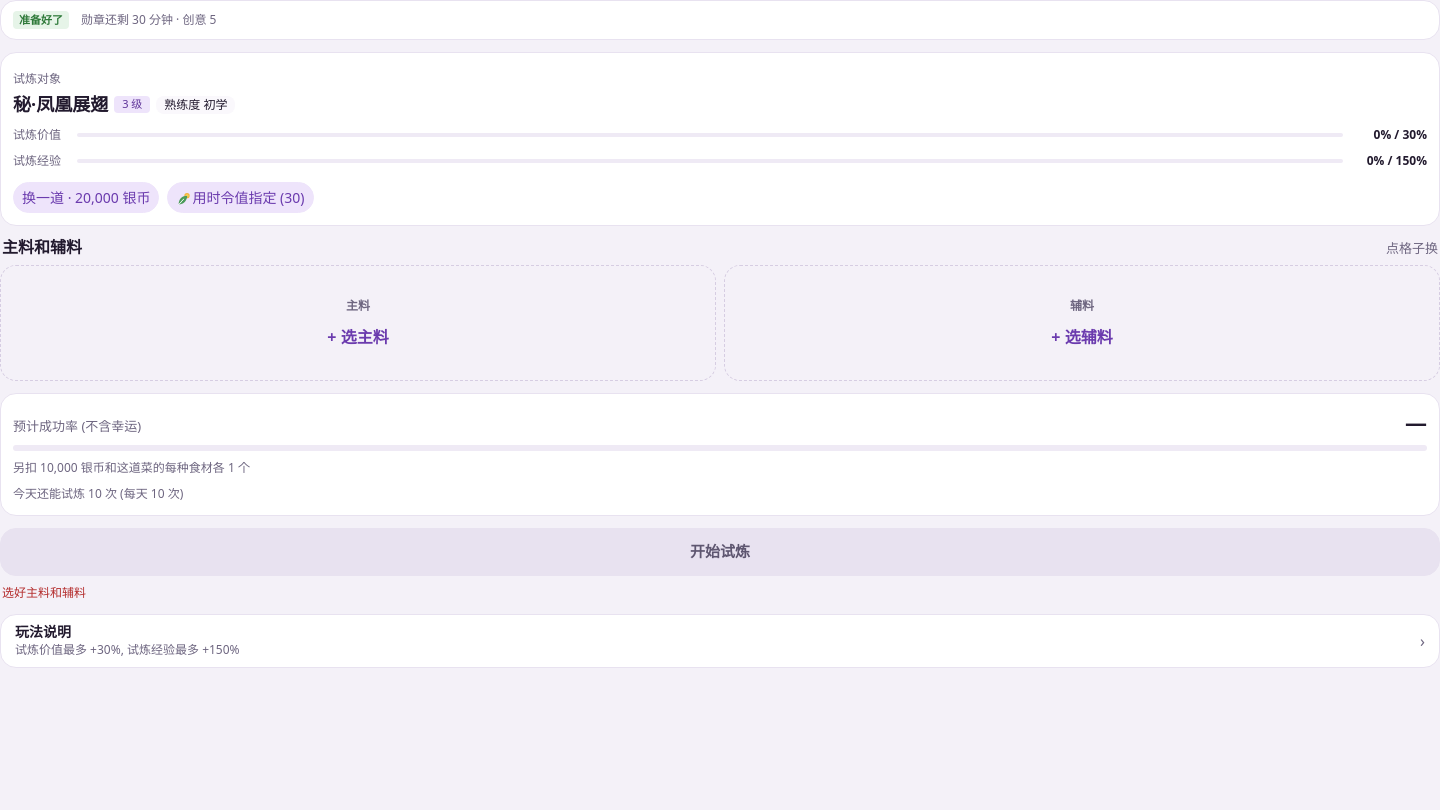
Test: TrialPanel › 准备好后选主辅食材开始试炼，显示预计成功率和结果
Expected: the element with test id "trial-ready" shows "勋章还剩 30 分钟 · 创意 5", [81,11,216,28]
Expected: the element with test id "trial-target" shows "秘·凤凰展翅", [13,92,108,116]
Click the button with test id "trial-slot-main" at {"x": 358, "y": 322}, box [0,264,716,380]
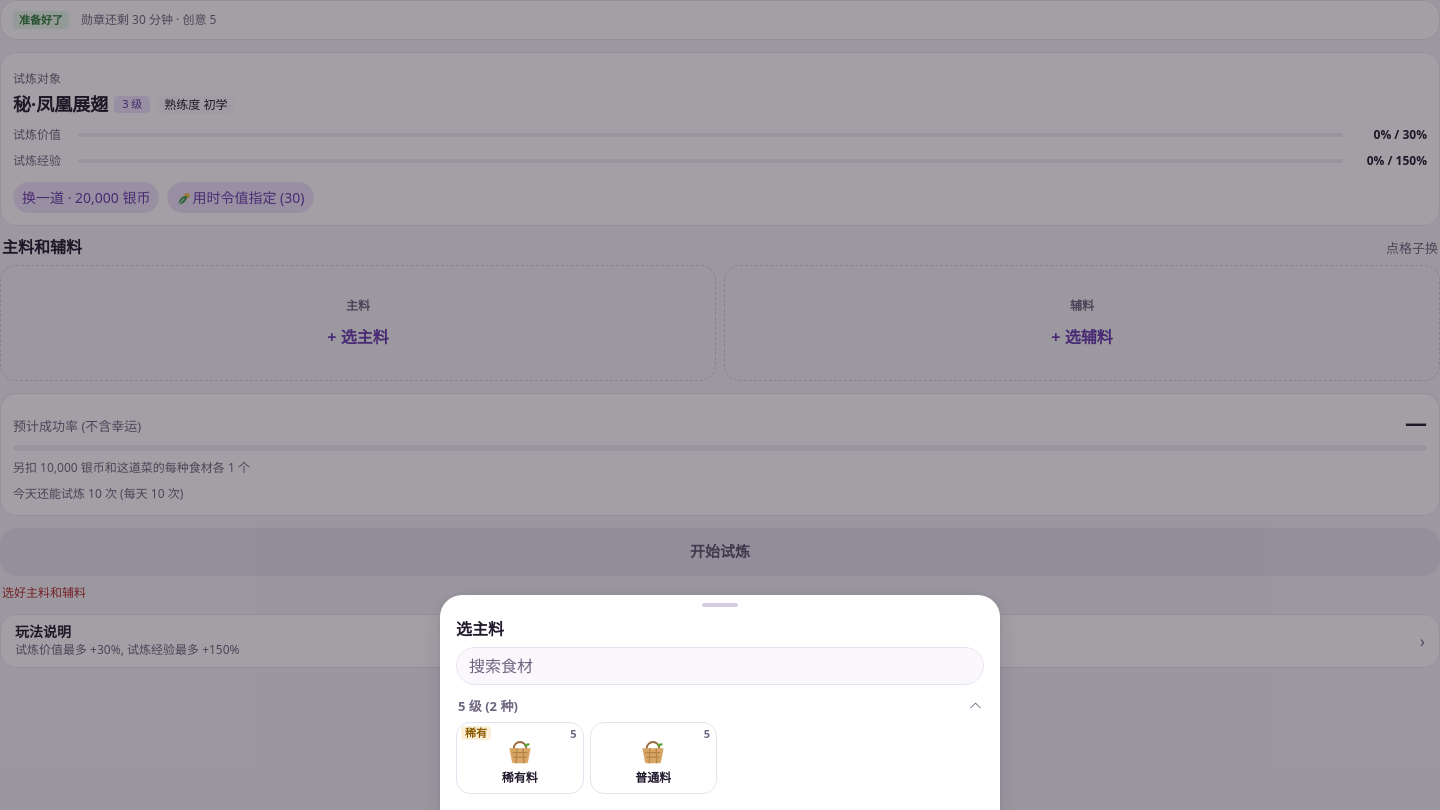
Expected: the text with class "dt-sheet-title" reads "选主料", [456,618,504,640]
Click the button with test id "trial-food-150" at {"x": 520, "y": 758}, box [456,722,584,794]
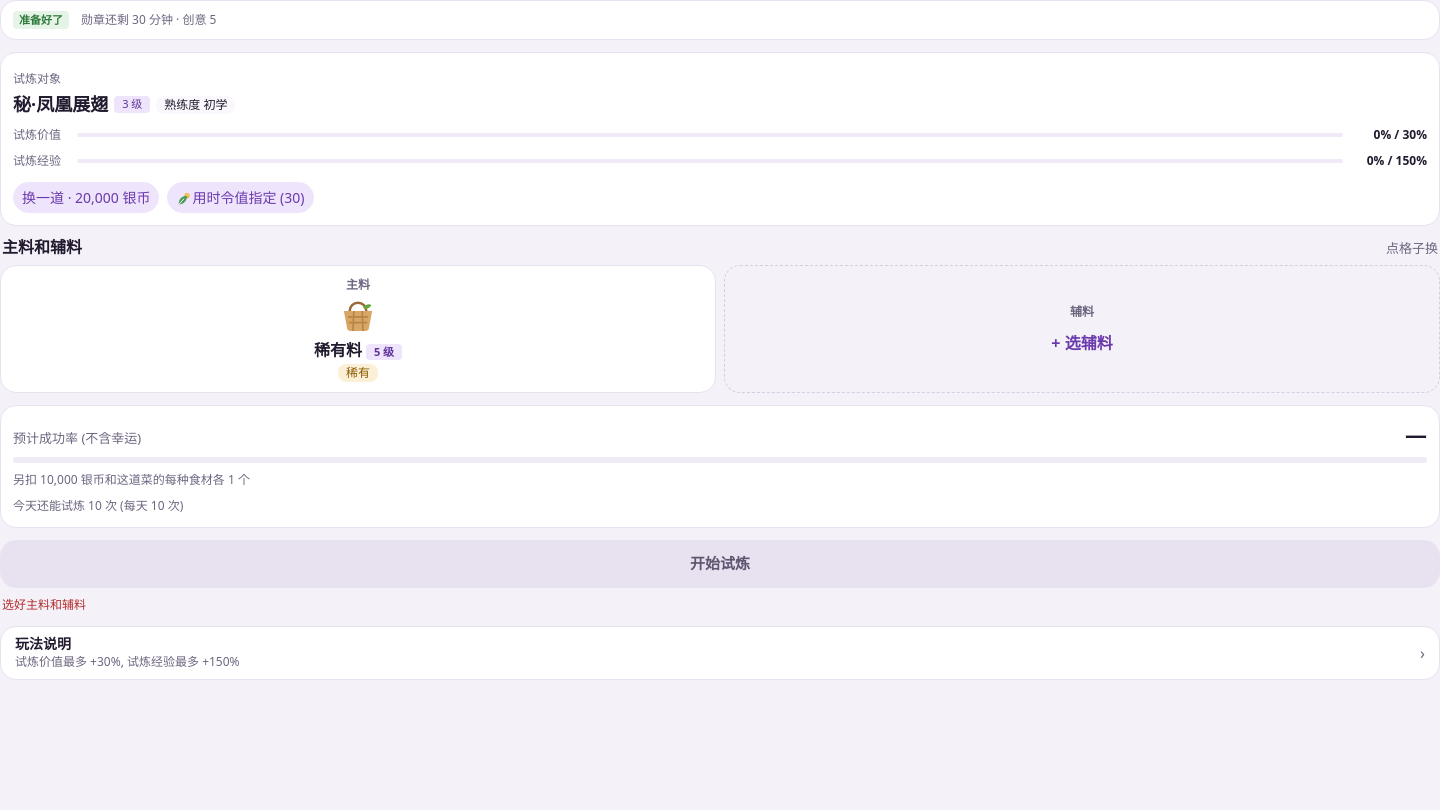
Expected: the button with test id "trial-slot-main" shows "稀有料", [0,264,716,392]
Click the button with test id "trial-slot-sub" at {"x": 1082, "y": 328}, box [724,264,1439,392]
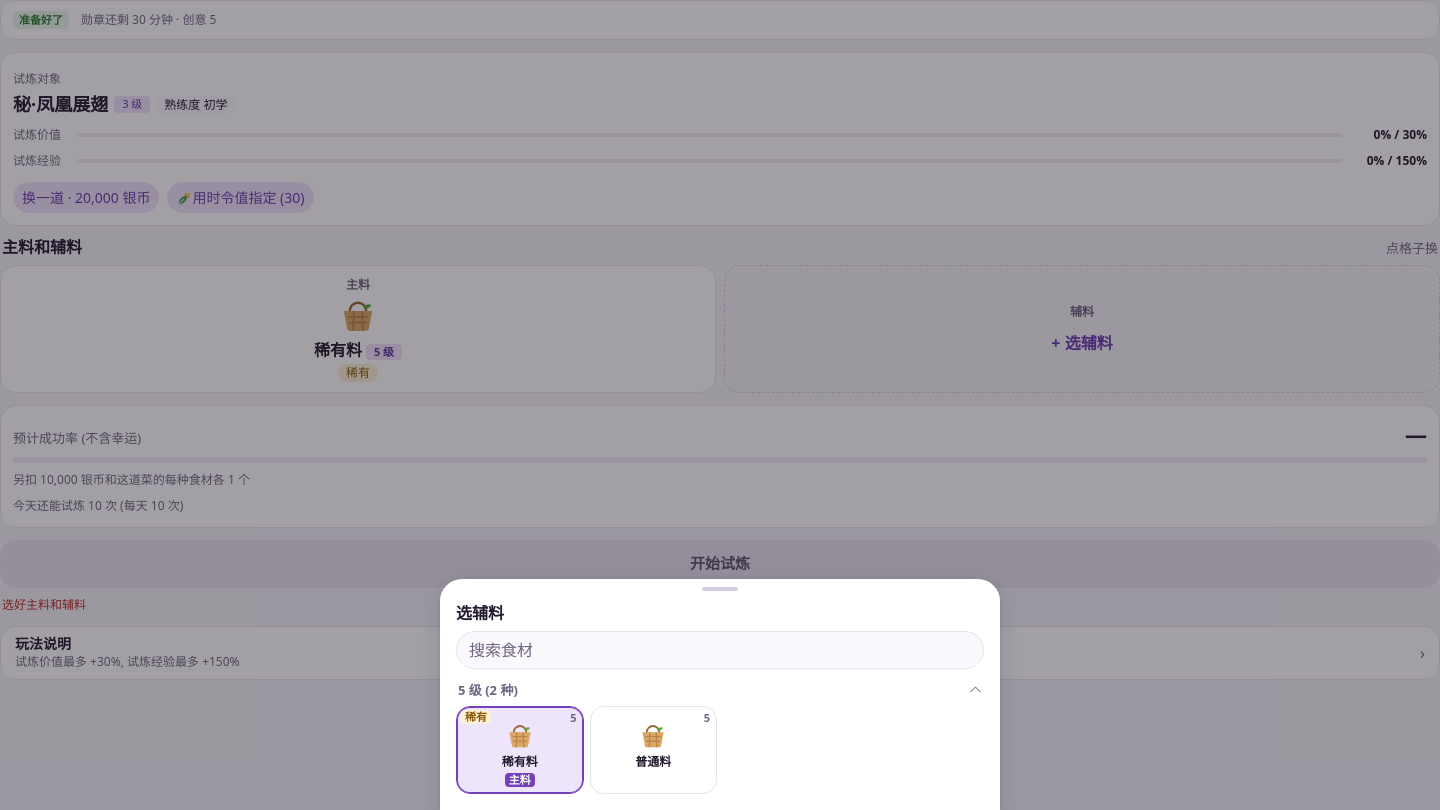
Expected: the text with class "dt-sheet-title" reads "选辅料", [456,602,504,624]
Click the button with test id "trial-food-423" at {"x": 653, "y": 750}, box [590,706,717,794]
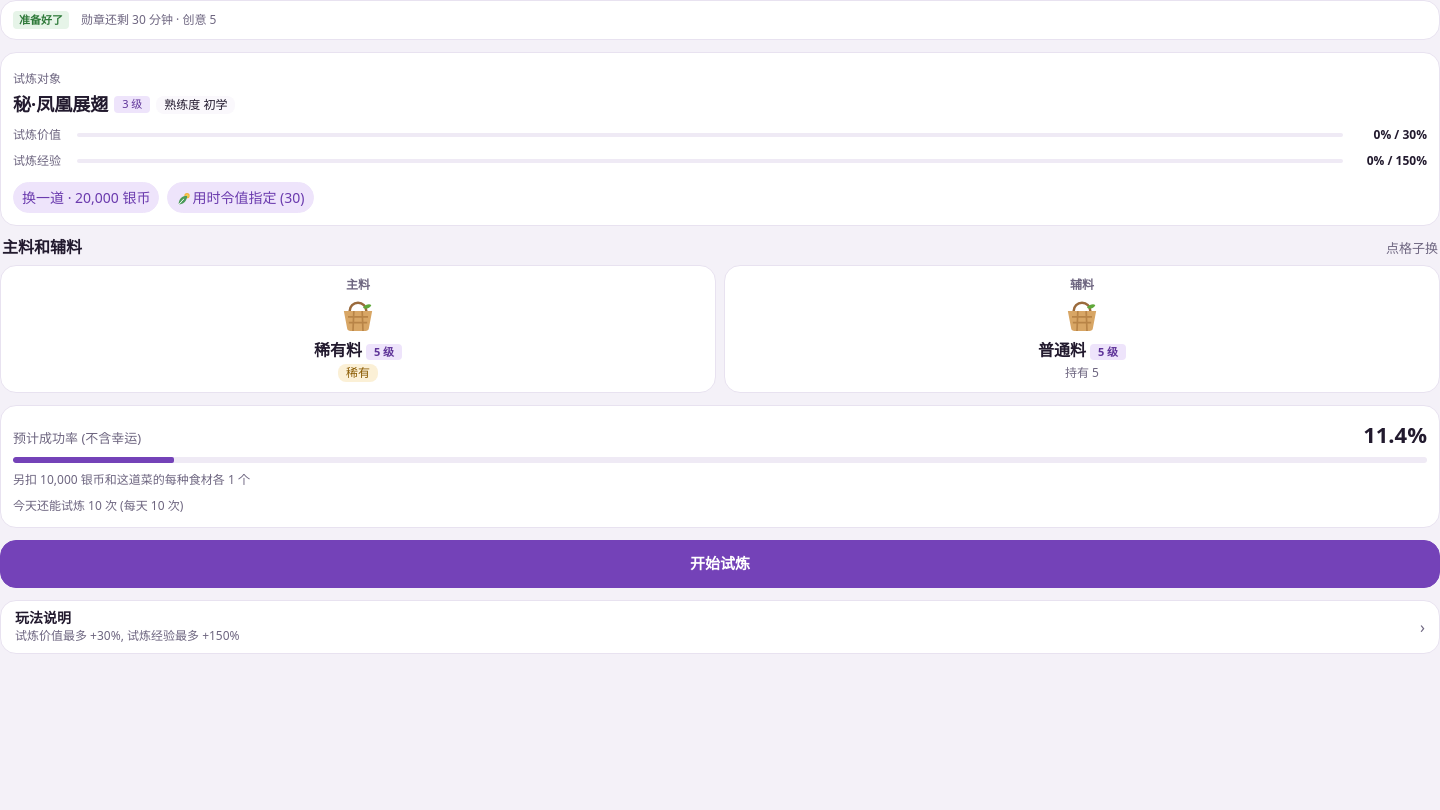
Expected: the button with test id "trial-slot-sub" shows "普通料", [724,264,1439,392]
Expected: the element with test id "trial-rate" shows "%", [0,404,1439,528]
Click the button with test id "trial-start" at {"x": 720, "y": 564}, box [0,540,1439,588]
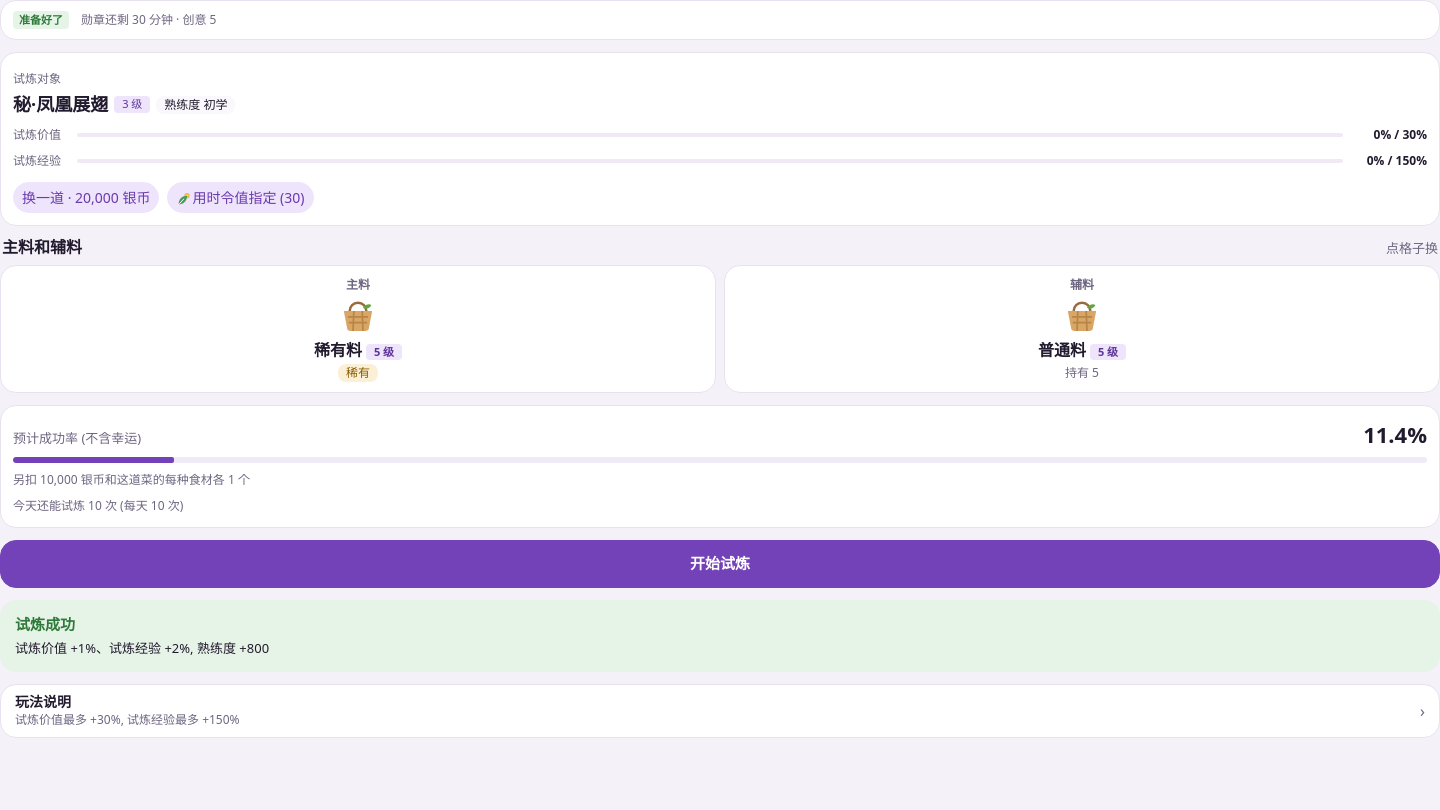
Expected: the message with test id "trial-result" shows "试炼价值 +1%", [15,639,269,657]
